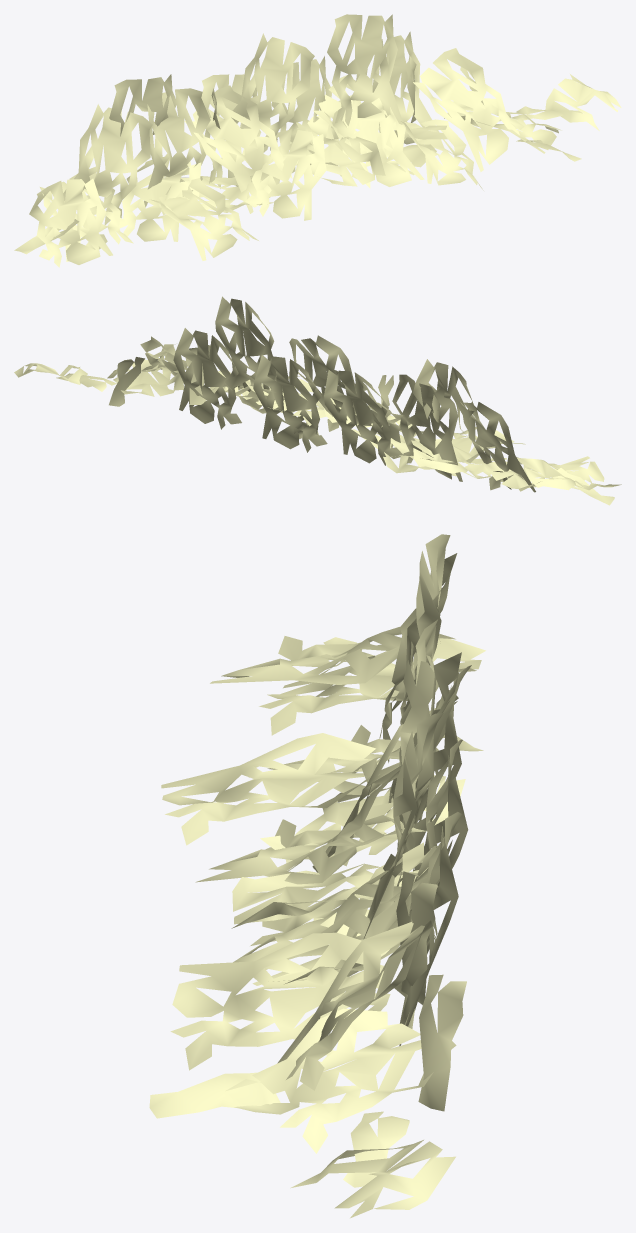
Rendered from ivy_corner.gltf.
The picture shows the model from 3 angles, top to bottom: view 1: azimuth 30°, elevation 25°; view 2: azimuth 150°, elevation 25°; view 3: azimuth 270°, elevation 25°; orthographic projection. The views are drawn at different scales.
Parts seen in each view (by area): view 1: Ivy_corner; view 2: Ivy_corner; view 3: Ivy_corner.
Boxes of the visible parts, box(x1,y1,x2,y2) form: Ivy_corner: box(14, 14, 621, 267); Ivy_corner: box(14, 296, 621, 505); Ivy_corner: box(149, 534, 485, 1218).
Size of the model in its own units: 13.56 by 3.2 by 3.4.
